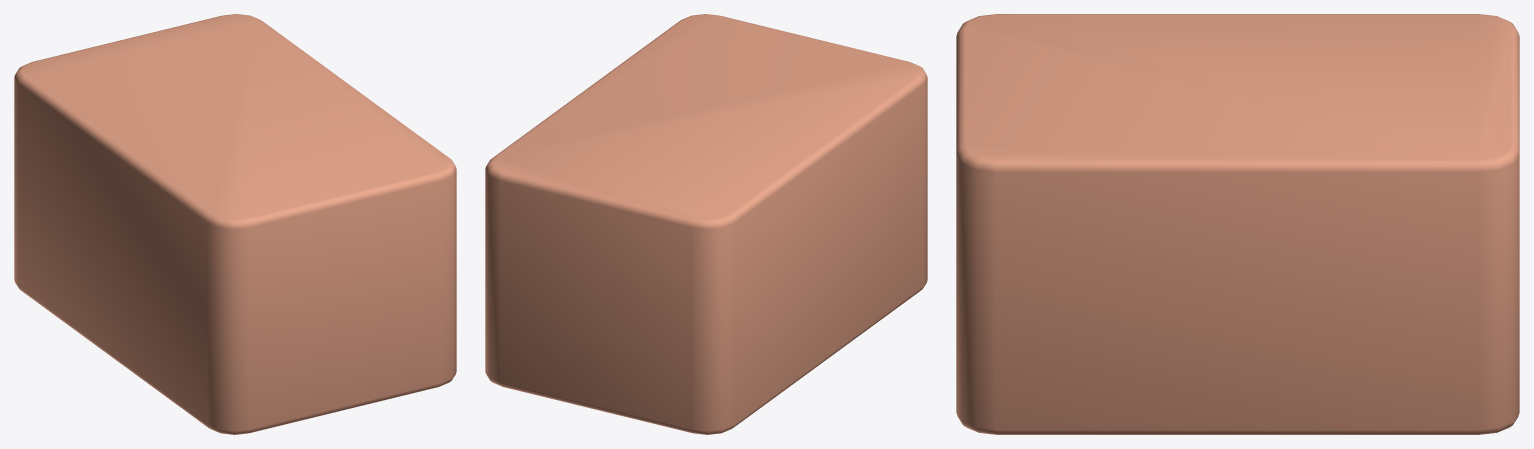
File: island_lv1_1.fbx
3 views of the same model, side by side, from view 1: azimuth 30°, elevation 25°; view 2: azimuth 150°, elevation 25°; view 3: azimuth 270°, elevation 25° (orthographic). The views are drawn at different scales.
Parts seen in each view (by area): view 1: island_lv1_1; view 2: island_lv1_1; view 3: island_lv1_1.
Part boxes in pixels (x1,y1,x2,y2): island_lv1_1: [14, 14, 456, 434]; island_lv1_1: [485, 14, 927, 434]; island_lv1_1: [956, 14, 1519, 434].
Bounding box in the file's own units: 599 × 500 × 931.
